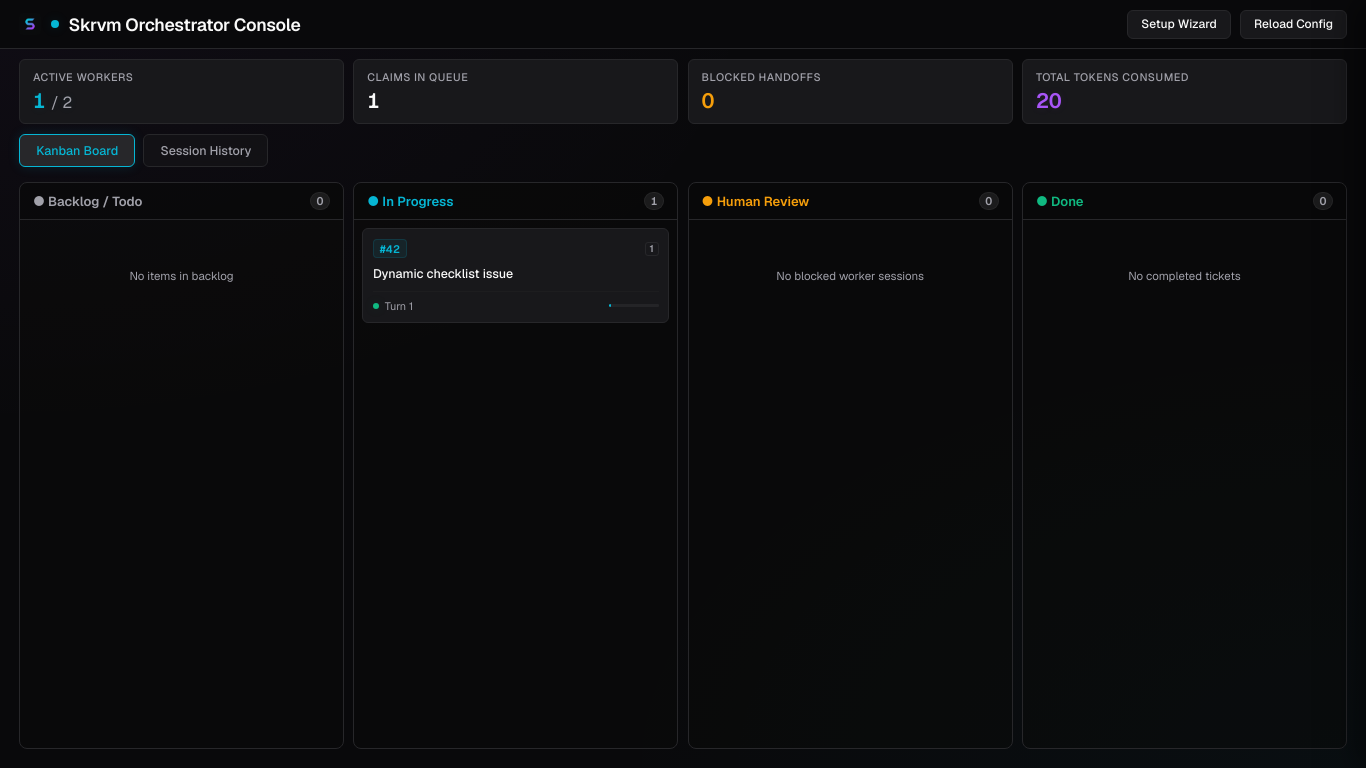
Scenario: Skrvm Frontend React App › should dynamically parse and render markdown checklists for non-demo issues and hide the sandbox
Expected: the text "#42" is shown, 373,239 -> 407,258
Click the text "Dynamic checklist issue". click: (443,274)
box: 373,265 -> 513,282
(page scrolled)
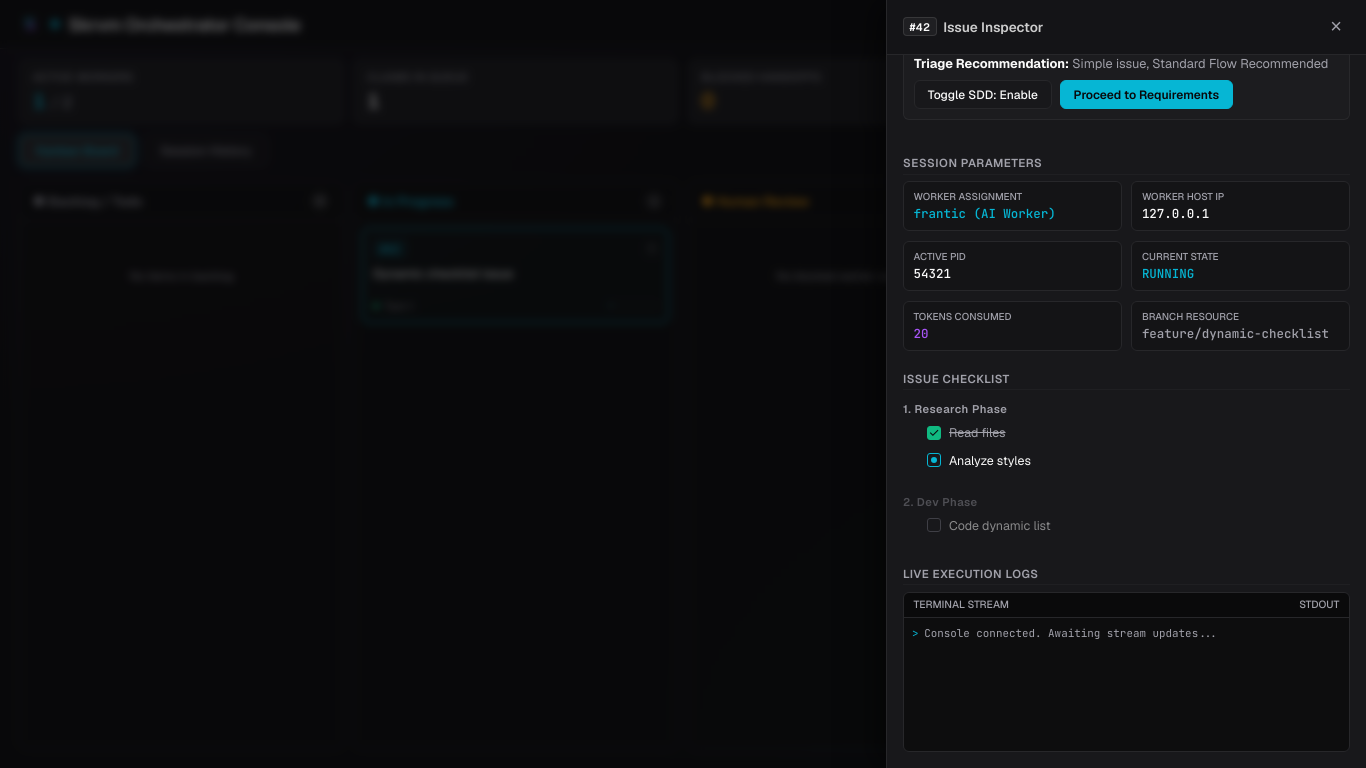
Expected: the text "Read files" is shown, 949,424 -> 1006,442
Expected: the text "Analyze styles" is shown, 949,452 -> 1031,469
Expected: the text "Code dynamic list" is shown, 949,516 -> 1051,534
